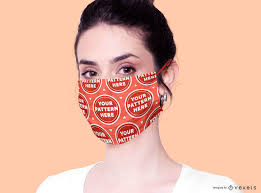with-mask: (70, 3, 178, 148)
